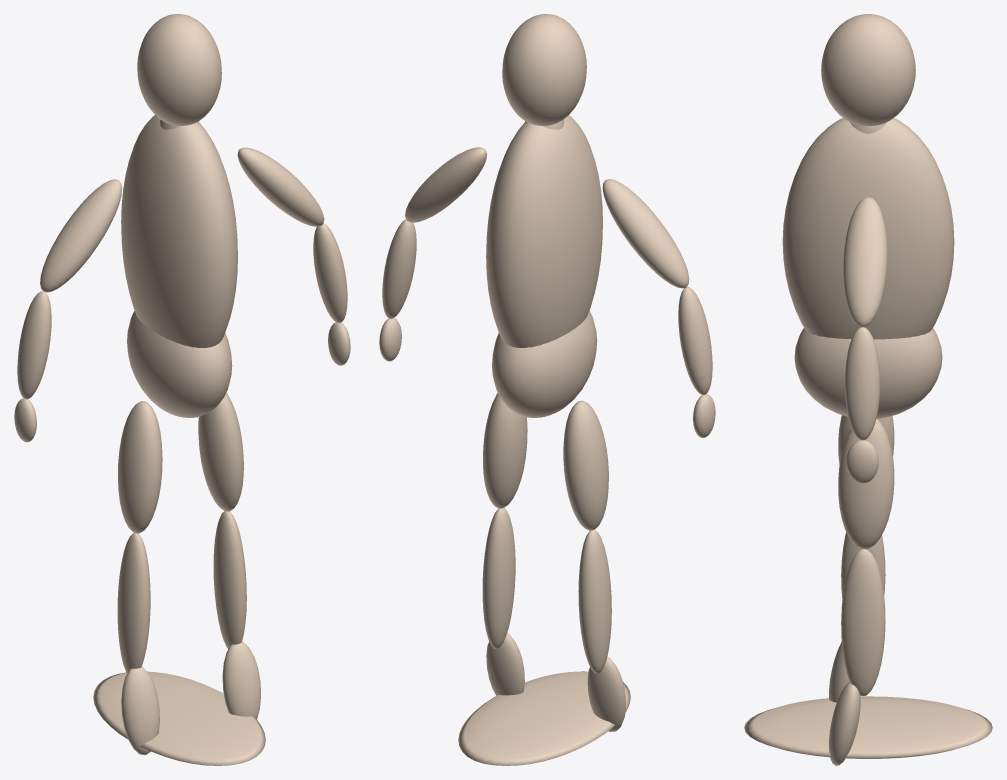
Rendered from bove-mannequin.glb.
3 renders of one model, left to right at view 1: azimuth 30°, elevation 25°; view 2: azimuth 150°, elevation 25°; view 3: azimuth 270°, elevation 25°, orthographic.
Parts seen in each view (by area): view 1: Bove Smooth Mannequin; view 2: Bove Smooth Mannequin; view 3: Bove Smooth Mannequin.
Part boxes in pixels (box(x1,y1,x2,y2)): Bove Smooth Mannequin: box(14, 14, 350, 765); Bove Smooth Mannequin: box(379, 14, 715, 765); Bove Smooth Mannequin: box(744, 14, 992, 765).
Bounding box in the file's own units: 1.3 × 2.7 × 0.84.
